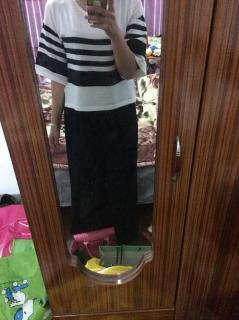long sleeve top: (35, 0, 148, 112)
trousers: (64, 91, 140, 245)
